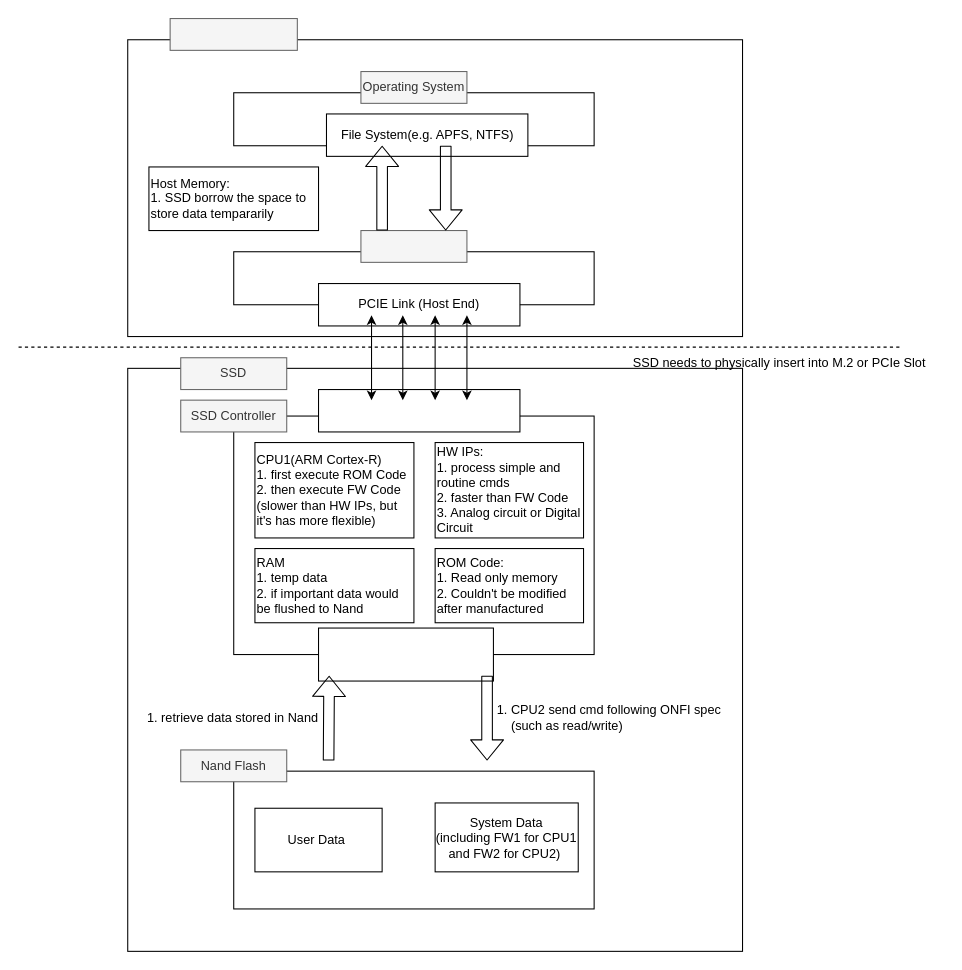
Image size: 962x970. Some labels were removed from this diagram. The centre of each missing label's shape, as x and y in pixels:
"CPU2: 1. execute FW2 Code to control Nand" belongs at pixel 405 654.
"PCIE Link (Contoller End)" belongs at pixel 418 410.
"Personal Computer" belongs at pixel 233 33.
"SSD Driver" belongs at pixel 413 245.
